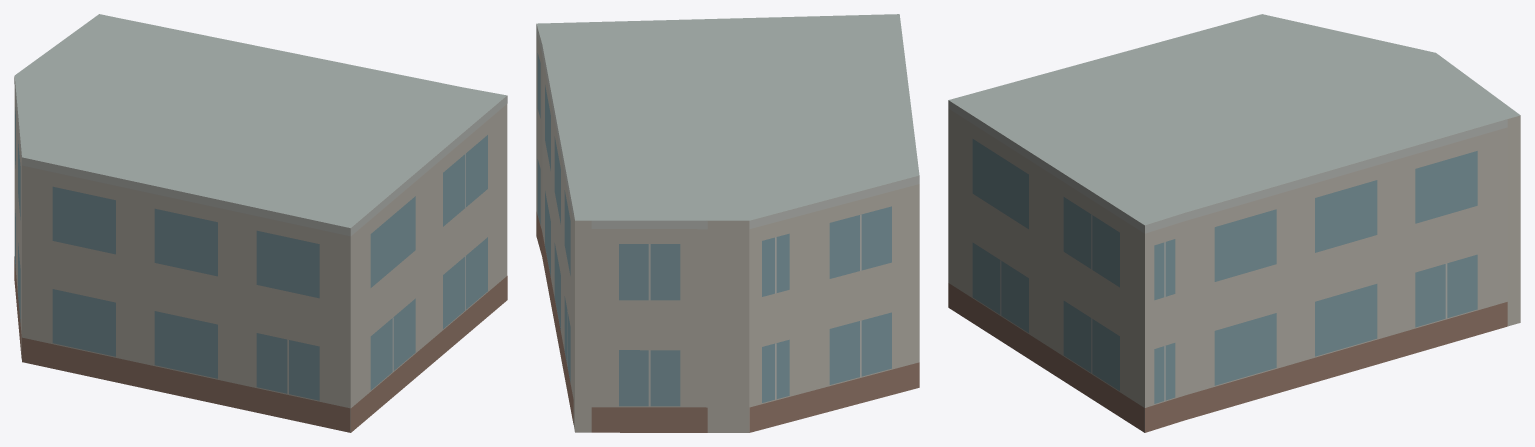
File: survey-upis-32781729.glb
The picture shows the model from 3 angles, left to right: view 1: azimuth 30°, elevation 25°; view 2: azimuth 150°, elevation 25°; view 3: azimuth 270°, elevation 25°; orthographic projection. The views are drawn at different scales.
Visible parts, largest first — view 1: survey-upis-32781729.tmp; view 2: survey-upis-32781729.tmp; view 3: survey-upis-32781729.tmp.
Boxes of the visible parts, x1,y1,x2,y2 form: survey-upis-32781729.tmp: (14,14,507,432); survey-upis-32781729.tmp: (536,14,919,432); survey-upis-32781729.tmp: (948,14,1520,432).
Size of the model in its own units: 13.34 by 6.1 by 15.26.
